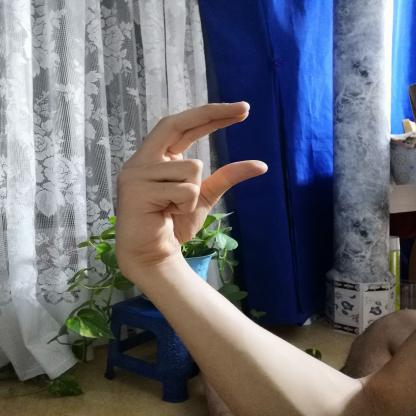DHELL: (101, 91, 281, 278)
